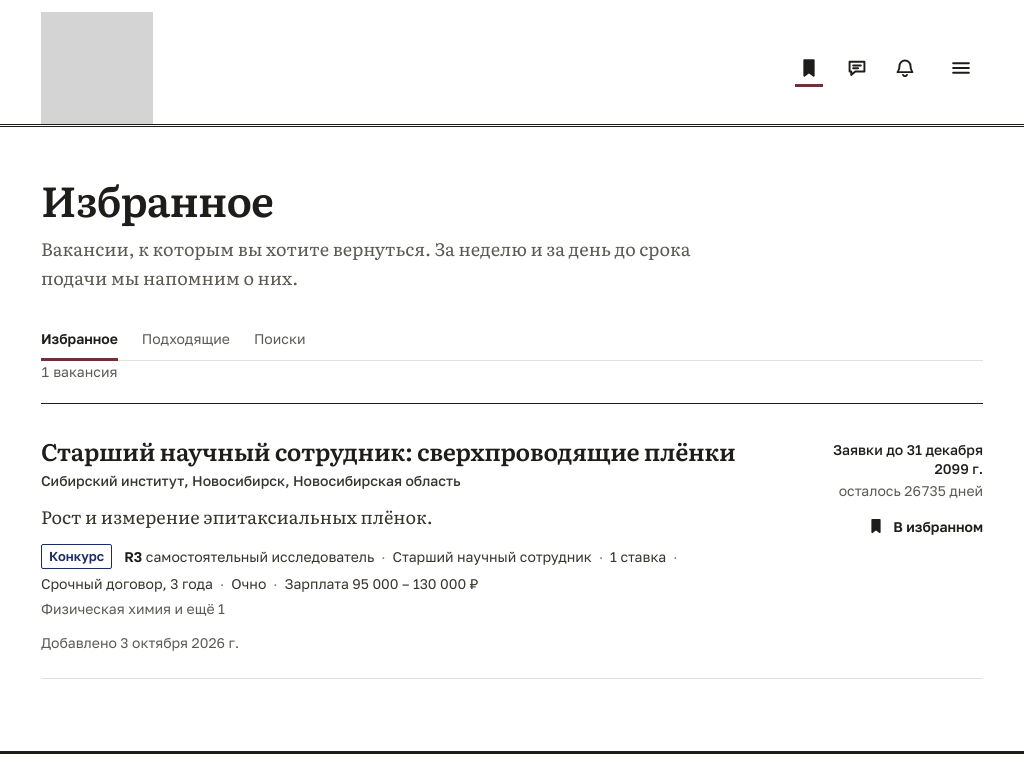
Test case: favorites page › removing › says so when removing fails, and keeps the vacancy
What coordinates should you click on to do the following:
click the button "В избранном"
I would click on:
 (925, 526)
Its box is [855,508,995,544].
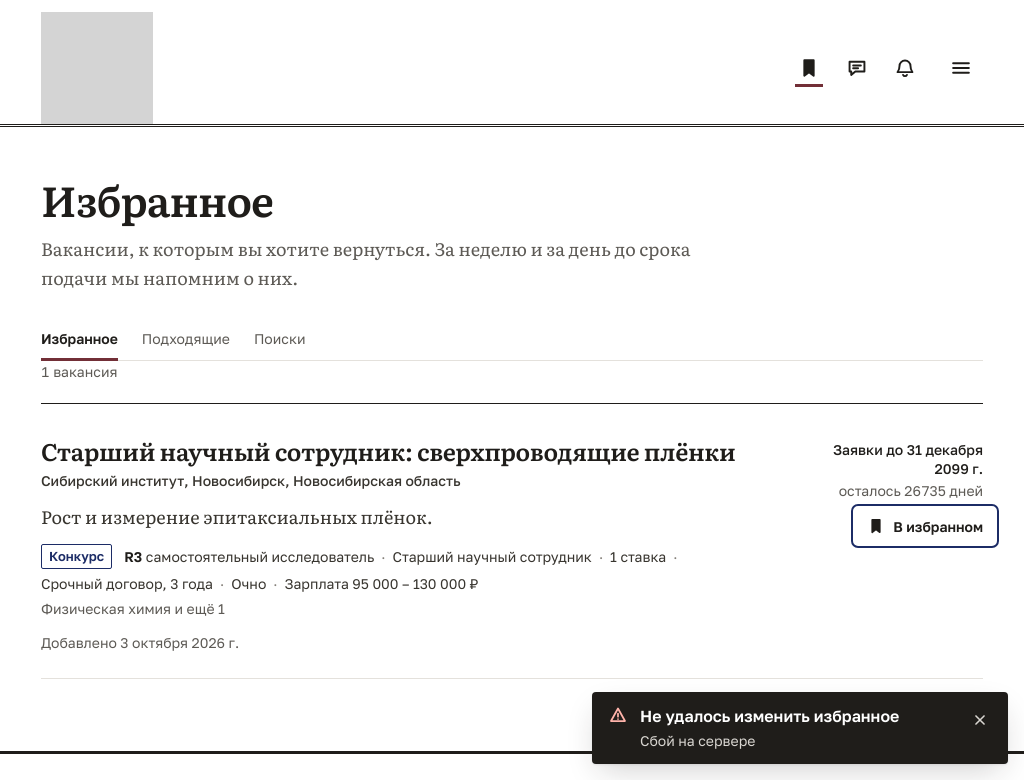
Expected: the link "Старший научный сотрудник: сверхпроводящие плёнки" is shown, [41,433,735,468]
Expected: the text "Не удалось изменить избранное" is shown, [640,706,899,726]
